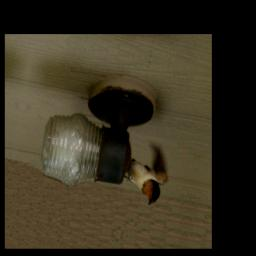Swallow: (120, 138, 175, 209)
